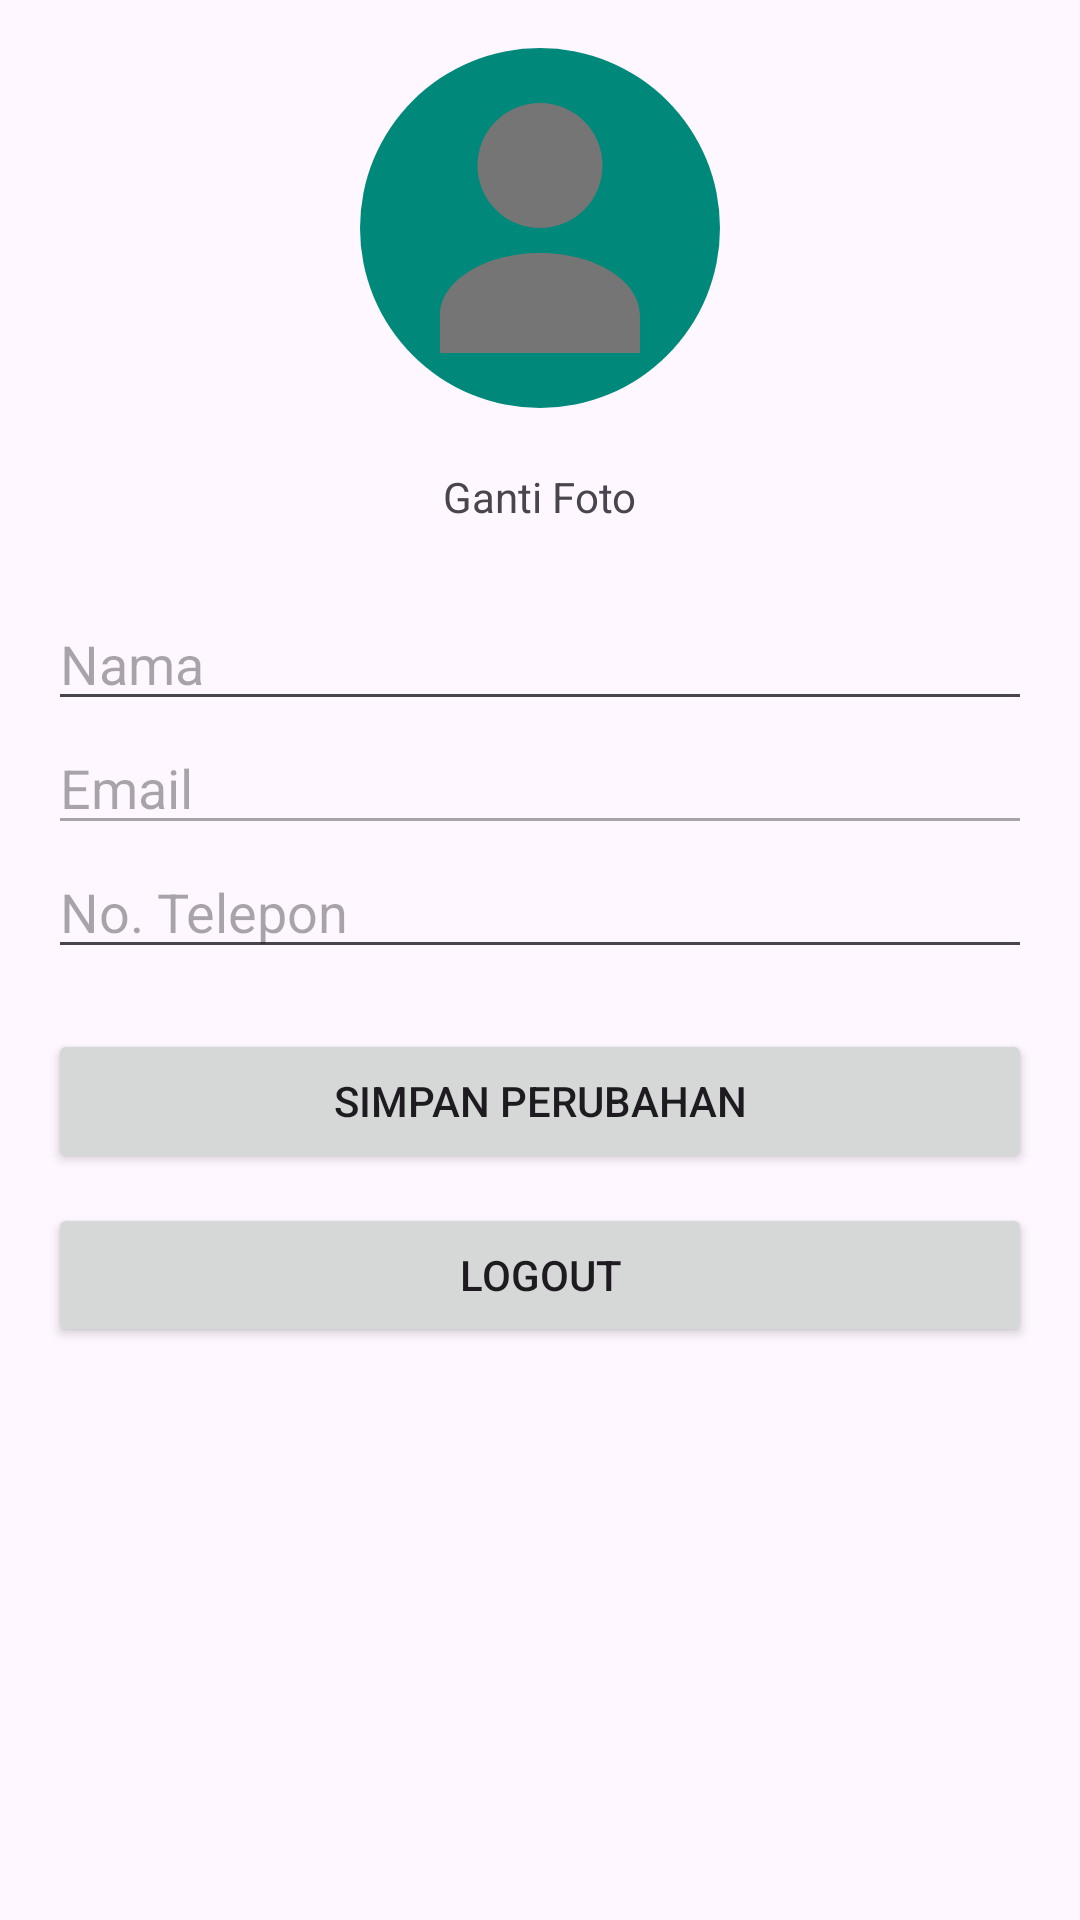

Icons on this 1080x1920 Android screen, each with its box as box(x1, y1, x2, y2):
person: box(360, 48, 720, 408)
